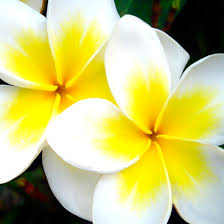frangipani: (46, 14, 224, 223)
